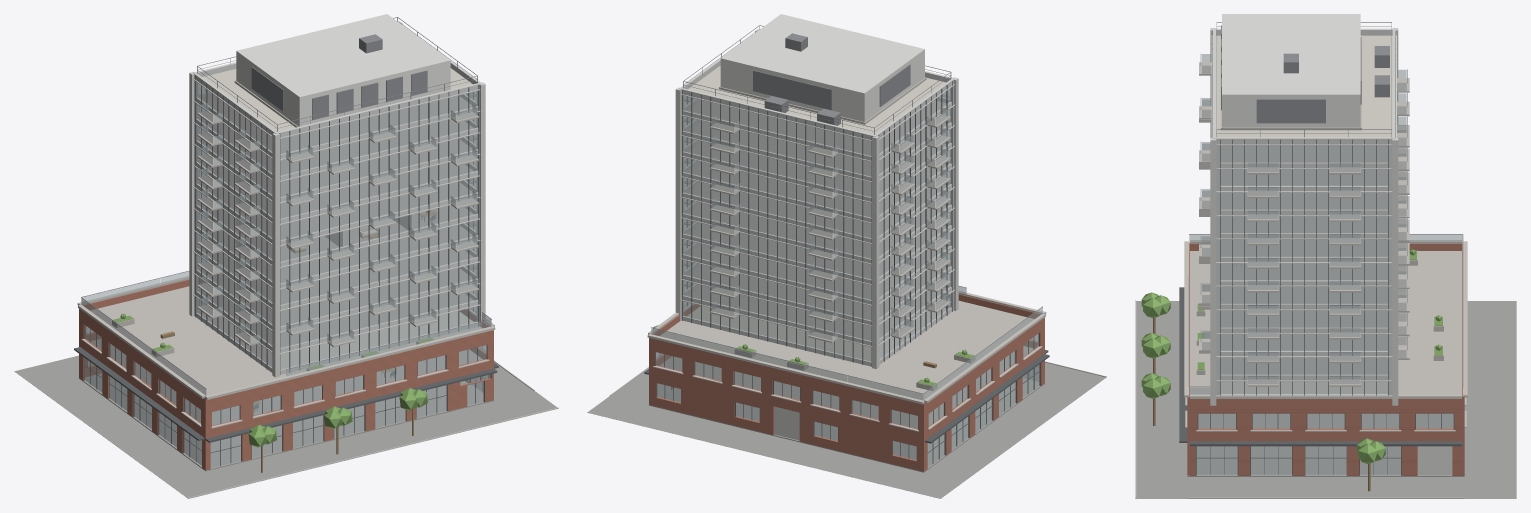
The model's file is clay-brick-podium-condo-tower-clay-v003.glb.
The picture shows the model from 3 angles, left to right: view 1: azimuth 30°, elevation 25°; view 2: azimuth 150°, elevation 25°; view 3: azimuth 270°, elevation 25°; orthographic projection. The views are drawn at different scales.
Visible parts, largest first — view 1: CLAY_GLASS, CLAY_FLOOR, CLAY_FOUNDATION, CLAY_SPANDREL, CLAY_WALL, CLAY_TRIM, CLAY_METAL, CLAY_SAND, CLAY_PALE, CLAY_CONCRETE, CLAY_HARDWARE, CLAY_STONE (+2 smaller); view 2: CLAY_GLASS, CLAY_FLOOR, CLAY_SPANDREL, CLAY_WALL, CLAY_FOUNDATION, CLAY_SAND, CLAY_TRIM, CLAY_METAL, CLAY_PALE, CLAY_CONCRETE, CLAY_HARDWARE, CLAY_STONE (+1 smaller); view 3: CLAY_GLASS, CLAY_FLOOR, CLAY_FOUNDATION, CLAY_SPANDREL, CLAY_METAL, CLAY_WALL, CLAY_SAND, CLAY_CONCRETE, CLAY_PALE, CLAY_TRIM, CLAY_HARDWARE, CLAY_STONE (+3 smaller).
Part boxes in pixels (x1,y1,x2,y2): CLAY_GLASS: (81,83,491,467); CLAY_FLOOR: (91,95,482,425); CLAY_FOUNDATION: (14,355,556,498); CLAY_SPANDREL: (194,63,479,374); CLAY_WALL: (79,278,493,470); CLAY_TRIM: (74,75,498,465); CLAY_METAL: (236,14,450,126); CLAY_SAND: (90,283,482,395); CLAY_PALE: (189,21,485,377); CLAY_CONCRETE: (112,80,478,371); CLAY_HARDWARE: (81,17,491,388); CLAY_STONE: (77,276,558,498); CLAY_GLASS: (651,88,1042,466); CLAY_FLOOR: (659,100,1033,428); CLAY_SPANDREL: (681,61,953,366); CLAY_WALL: (649,294,1044,471); CLAY_FOUNDATION: (587,362,1106,498); CLAY_SAND: (660,298,1034,400); CLAY_TRIM: (644,81,1049,463); CLAY_METAL: (720,14,924,121); CLAY_PALE: (657,29,958,440); CLAY_CONCRETE: (685,77,975,390); CLAY_HARDWARE: (651,25,1042,393); CLAY_STONE: (609,291,1106,431); CLAY_GLASS: (1189,54,1462,474); CLAY_FLOOR: (1198,145,1453,428); CLAY_FOUNDATION: (1136,301,1516,498); CLAY_SPANDREL: (1216,30,1392,395); CLAY_METAL: (1222,14,1360,127); CLAY_WALL: (1187,243,1464,475); CLAY_SAND: (1190,251,1461,394); CLAY_CONCRETE: (1196,46,1443,386); CLAY_PALE: (1210,28,1451,474); CLAY_TRIM: (1179,31,1461,475); CLAY_HARDWARE: (1188,22,1463,386); CLAY_STONE: (1135,240,1467,498).
Bounding box in the file's own units: 54 × 48.2 × 44.
